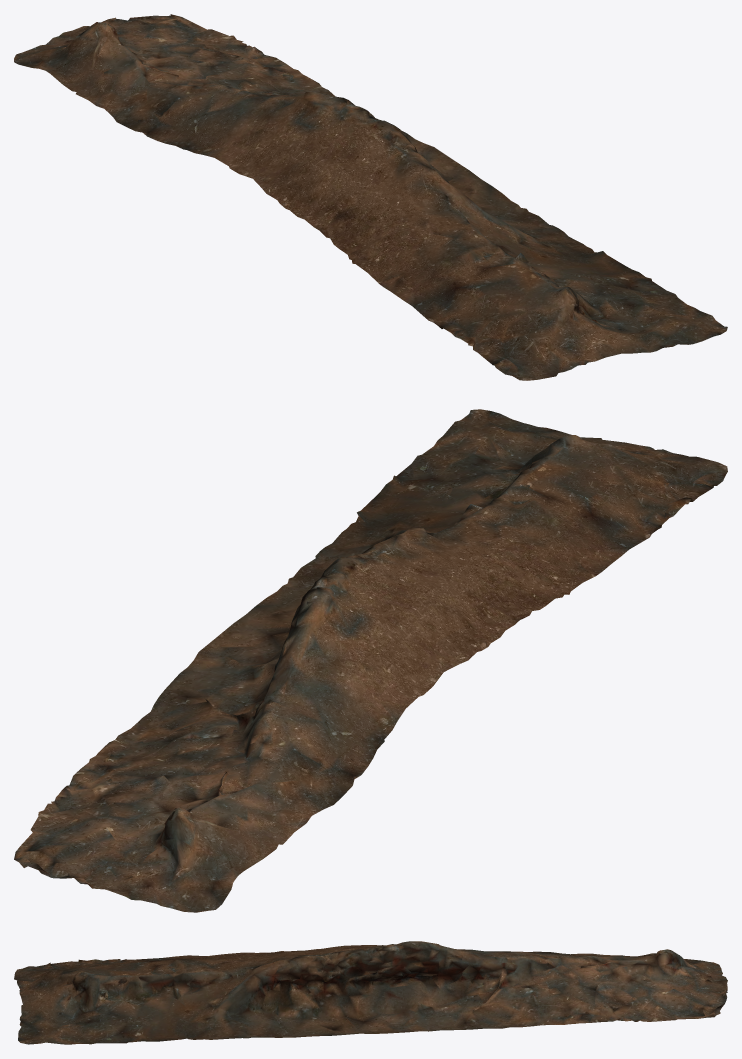
File: ph_single_root.glb
3 views of the same model, one above another, from view 1: azimuth 30°, elevation 25°; view 2: azimuth 150°, elevation 25°; view 3: azimuth 270°, elevation 25° (orthographic). The views are drawn at different scales.
Visible parts, largest first — view 1: single_root; view 2: single_root; view 3: single_root.
Boxes of the visible parts, x1,y1,x2,y2 form: single_root: (14, 14, 727, 380); single_root: (14, 409, 727, 912); single_root: (14, 941, 727, 1044).
Bounding box in the file's own units: 0.5552 × 0.1768 × 1.84.
Materials: 1 (1 with a texture image).
